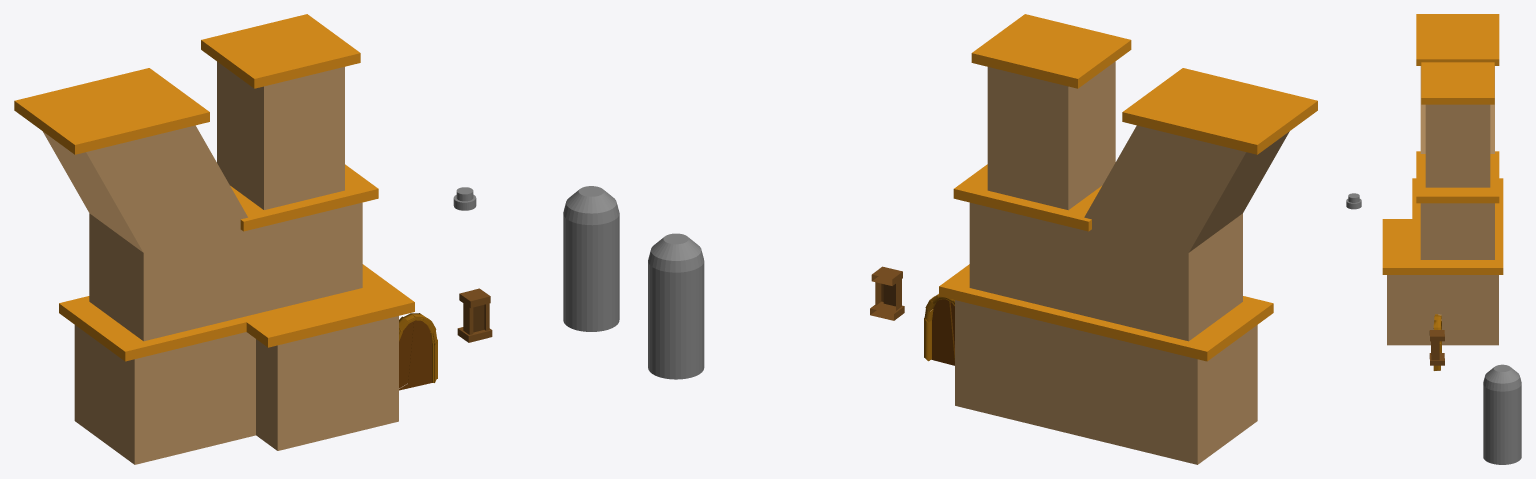
The model's file is House_5.fbx.
3 renders of one model, left to right at view 1: azimuth 30°, elevation 25°; view 2: azimuth 150°, elevation 25°; view 3: azimuth 270°, elevation 25°, orthographic. The views are drawn at different scales.
Visible parts, largest first — view 1: Cube, Cylinder.002, Cube.466, Cube.019; view 2: Cube, Cylinder.002, Cube.466, Cube.019; view 3: Cube, Cylinder.002, Cube.019, Cylinder.007, Cube.466.
Part boxes in pixels (<box>): Cube: <box>14,14,414,464</box>; Cylinder.002: <box>563,186,619,331</box>; Cube.466: <box>399,313,437,390</box>; Cube.019: <box>457,288,492,342</box>; Cube: <box>939,14,1317,464</box>; Cylinder.002: <box>648,233,704,379</box>; Cube.466: <box>924,294,954,365</box>; Cube.019: <box>870,266,904,320</box>; Cube: <box>1382,14,1503,345</box>; Cylinder.002: <box>1483,364,1521,464</box>; Cube.019: <box>1429,330,1444,365</box>; Cylinder.007: <box>1346,193,1361,209</box>; Cube.466: <box>1433,314,1441,370</box>.
Bounding box in the file's own units: 2475 × 1494 × 908.
